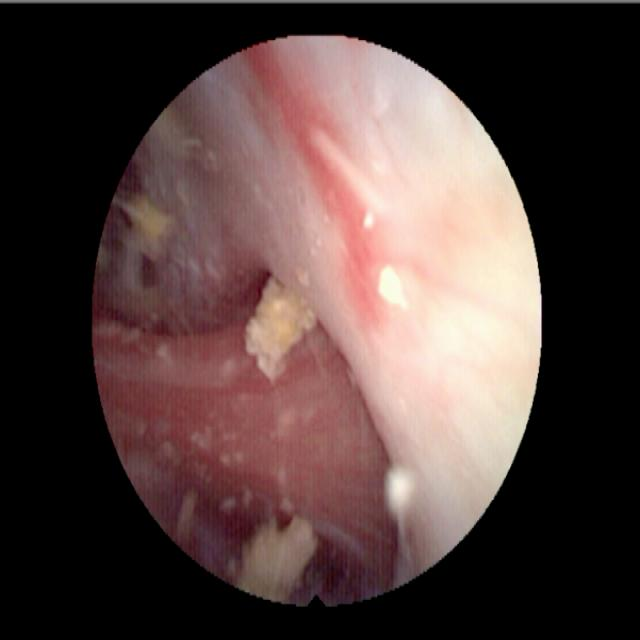stone: (248, 277, 311, 378), (245, 519, 314, 598), (124, 193, 167, 239), (378, 266, 406, 307)
tissue: (103, 61, 521, 584)
